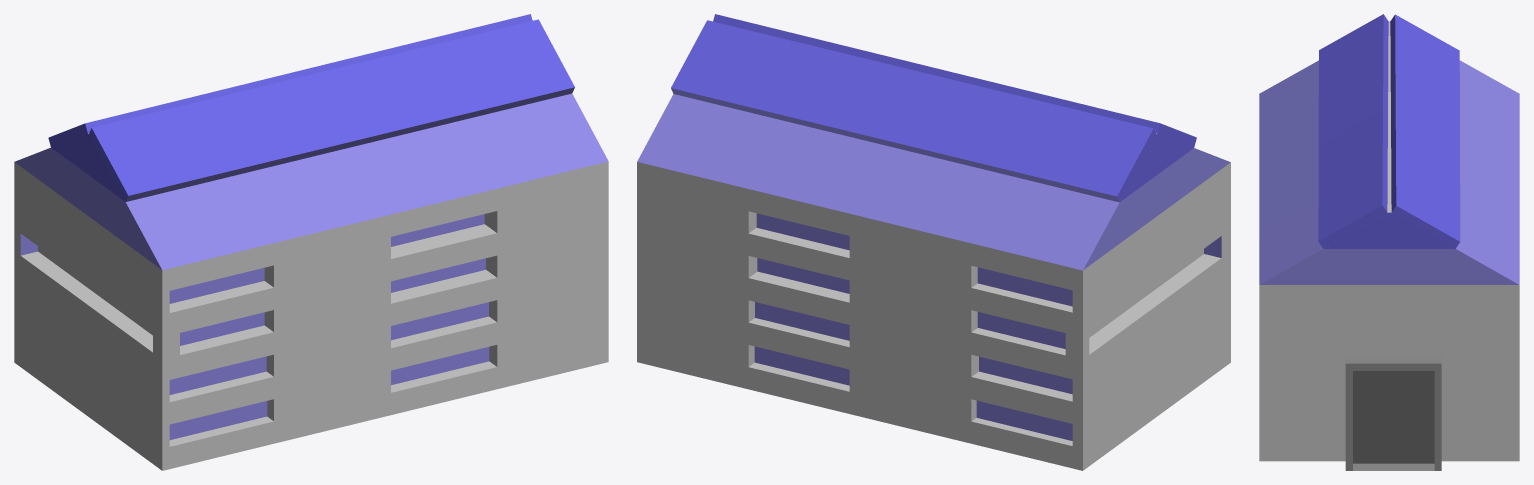
The model's file is BLUETIN1.glb.
3 views of the same model, side by side, from view 1: azimuth 30°, elevation 25°; view 2: azimuth 150°, elevation 25°; view 3: azimuth 270°, elevation 25° (orthographic). The views are drawn at different scales.
Parts seen in each view (by area): view 1: Cube.002; view 2: Cube.002; view 3: Cube.002, Cube.003.
Part boxes in pixels (box(x1,y1,x2,y2)): Cube.002: box(14, 14, 608, 470); Cube.002: box(637, 14, 1230, 470); Cube.002: box(1259, 14, 1519, 461); Cube.003: box(1345, 356, 1441, 470).
Size of the model in its own units: 9.81 by 5.94 by 5.43.
